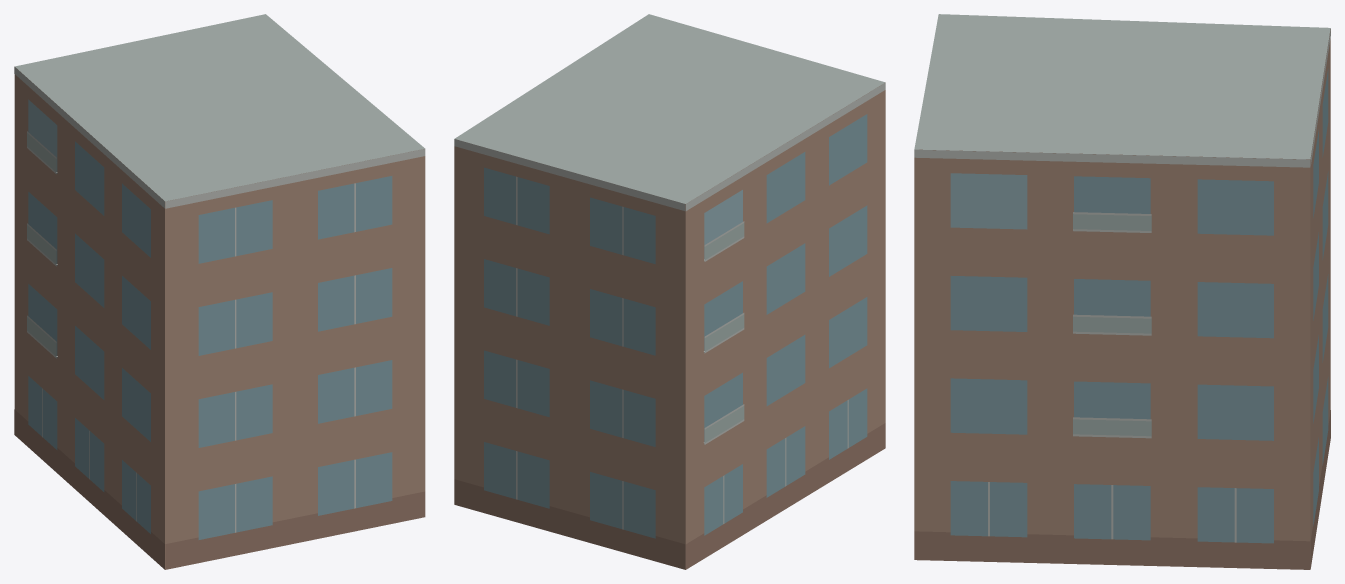
Rendered from survey-upis-32910802.glb.
The picture shows the model from 3 angles, left to right: view 1: azimuth 30°, elevation 25°; view 2: azimuth 150°, elevation 25°; view 3: azimuth 270°, elevation 25°; orthographic projection. The views are drawn at different scales.
Parts seen in each view (by area): view 1: survey-upis-32910802.tmp; view 2: survey-upis-32910802.tmp; view 3: survey-upis-32910802.tmp.
Part boxes in pixels (x1,y1,x2,y2): survey-upis-32910802.tmp: [14, 14, 425, 569]; survey-upis-32910802.tmp: [454, 14, 885, 569]; survey-upis-32910802.tmp: [914, 14, 1330, 569].
Size of the model in its own units: 9.28 by 12.2 by 11.23.
